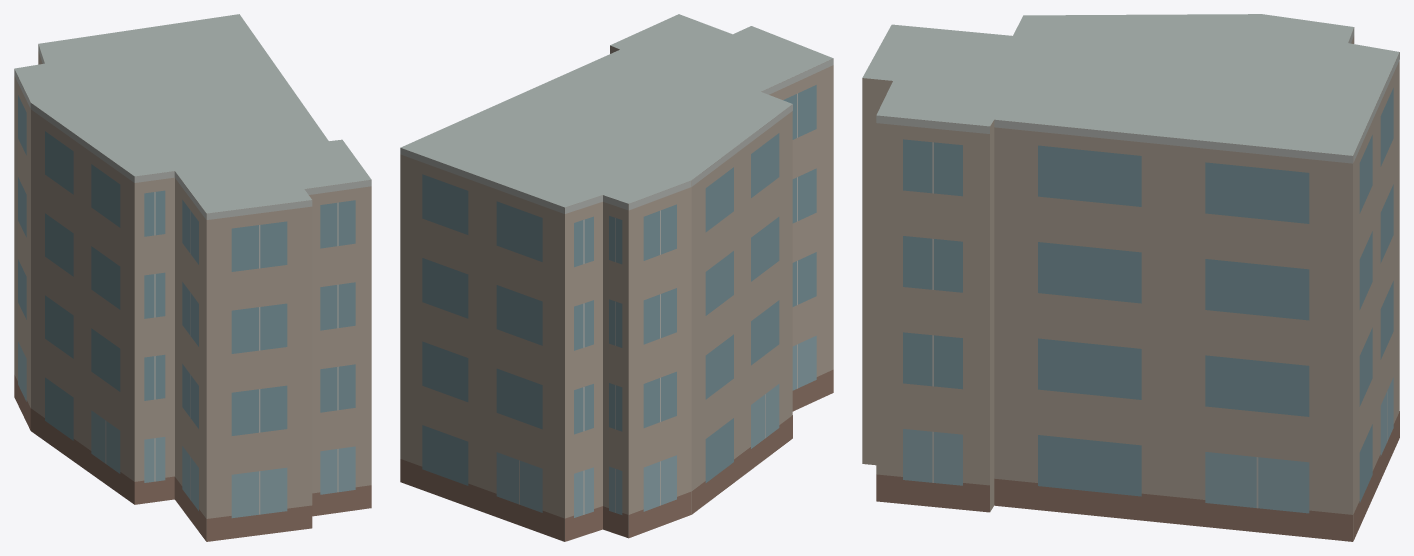
Rendered from survey-upis-32617077.glb.
3 views of the same model, side by side, from view 1: azimuth 30°, elevation 25°; view 2: azimuth 150°, elevation 25°; view 3: azimuth 270°, elevation 25° (orthographic). The views are drawn at different scales.
Parts seen in each view (by area): view 1: survey-upis-32617077.tmp; view 2: survey-upis-32617077.tmp; view 3: survey-upis-32617077.tmp.
Boxes of the visible parts, x1,y1,x2,y2 form: survey-upis-32617077.tmp: (14, 14, 371, 541); survey-upis-32617077.tmp: (400, 14, 833, 541); survey-upis-32617077.tmp: (862, 14, 1399, 541).
Bounding box in the file's own units: 9.63 × 12.2 × 15.41.
